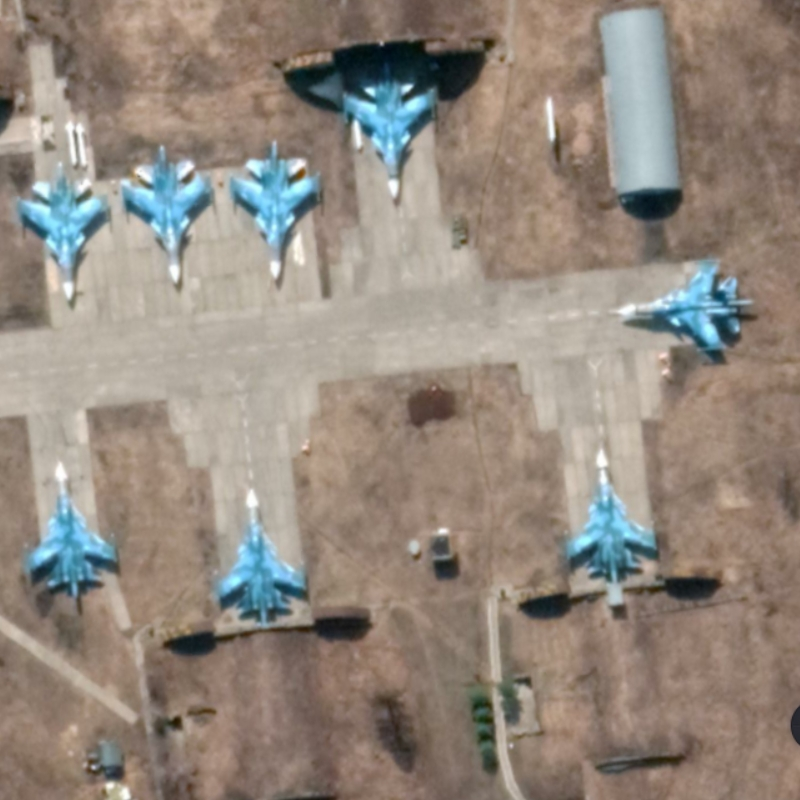A19: (19, 458, 121, 600), (340, 58, 440, 202), (14, 159, 113, 304), (209, 486, 309, 628), (227, 138, 324, 283), (118, 142, 215, 287), (614, 257, 755, 356), (563, 446, 660, 586)
